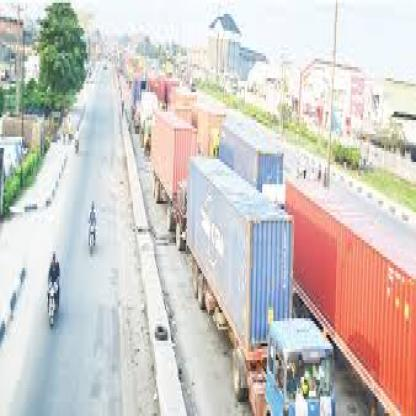car: (168, 148, 350, 416)
